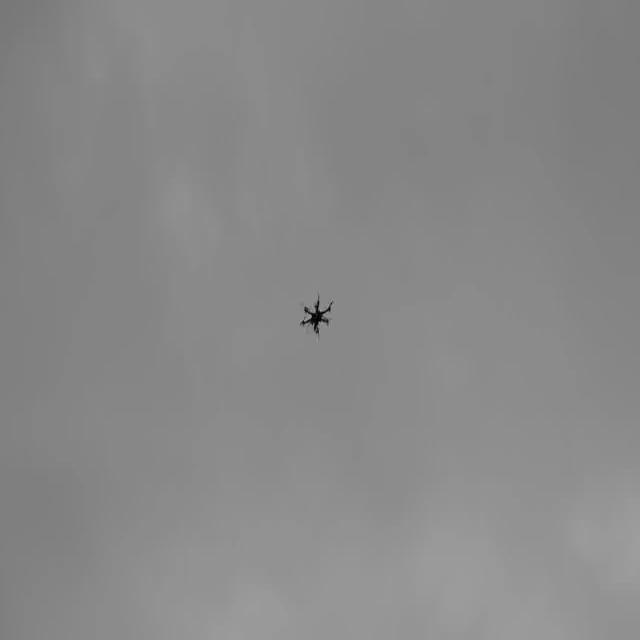drone: (298, 295, 335, 338)
